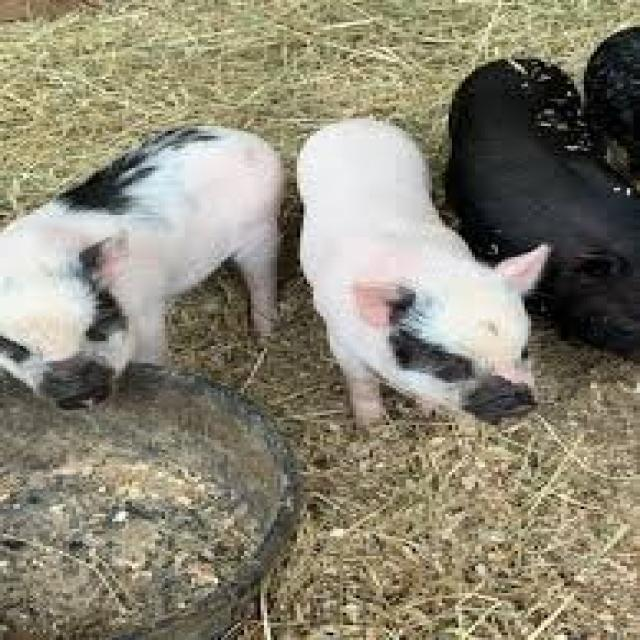Pig: (280, 100, 556, 434), (4, 92, 288, 409)
